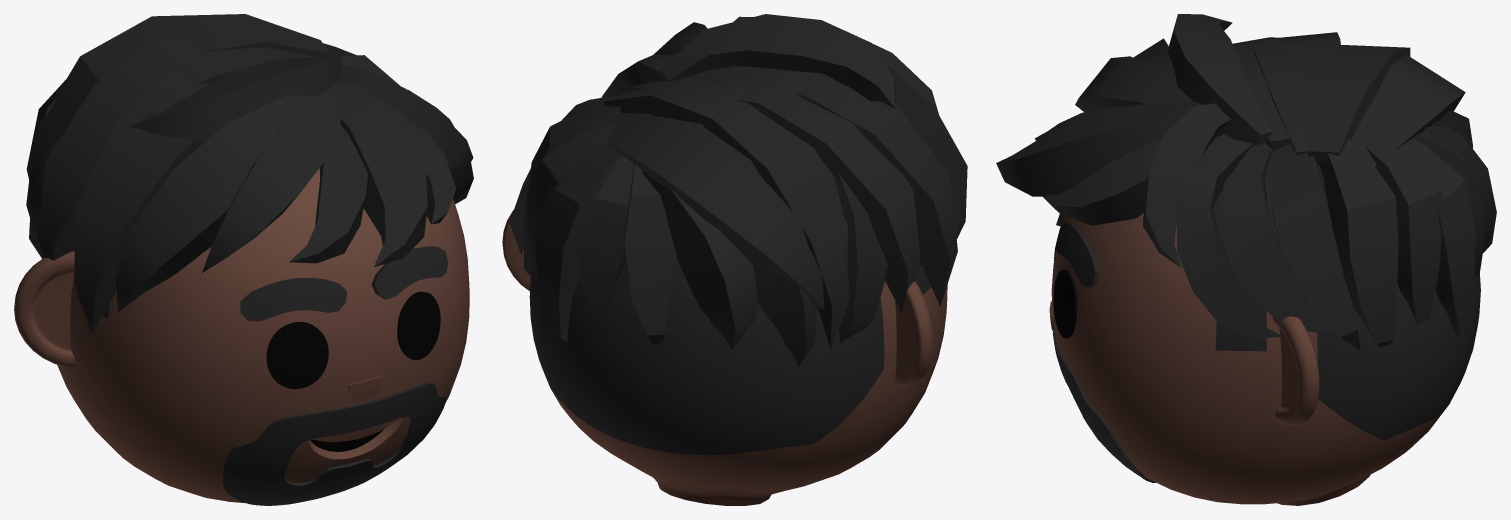
The model's file is person_beard.gltf.
The picture shows the model from 3 angles, left to right: view 1: azimuth 30°, elevation 25°; view 2: azimuth 150°, elevation 25°; view 3: azimuth 270°, elevation 25°; orthographic projection. The views are drawn at different scales.
Visible parts, largest first — view 1: Cube.279, Roundcube.009, Circle.314, Circle.311, Circle.313, ears.007, Circle.312; view 2: Cube.279, Roundcube.009, ears.007; view 3: Cube.279, Roundcube.009, ears.007, Circle.314, Circle.313, Circle.311.
Boxes of the visible parts, box(x1,y1,x2,y2) form: Cube.279: box(26, 14, 473, 334); Roundcube.009: box(57, 168, 469, 503); Circle.314: box(222, 382, 446, 505); Circle.311: box(266, 291, 440, 389); Circle.313: box(240, 246, 448, 321); ears.007: box(14, 251, 75, 367); Circle.312: box(348, 376, 382, 400); Cube.279: box(509, 14, 967, 366); Roundcube.009: box(529, 256, 947, 505); ears.007: box(502, 210, 932, 385); Cube.279: box(996, 14, 1496, 351); Roundcube.009: box(1051, 135, 1480, 505); ears.007: box(1272, 316, 1319, 425); Circle.314: box(1052, 330, 1155, 482); Circle.313: box(1056, 214, 1099, 287); Circle.311: box(1053, 230, 1077, 338).
Size of the model in its own units: 1.76 by 1.73 by 1.77.
Materials: 2 (2 with a texture image).
